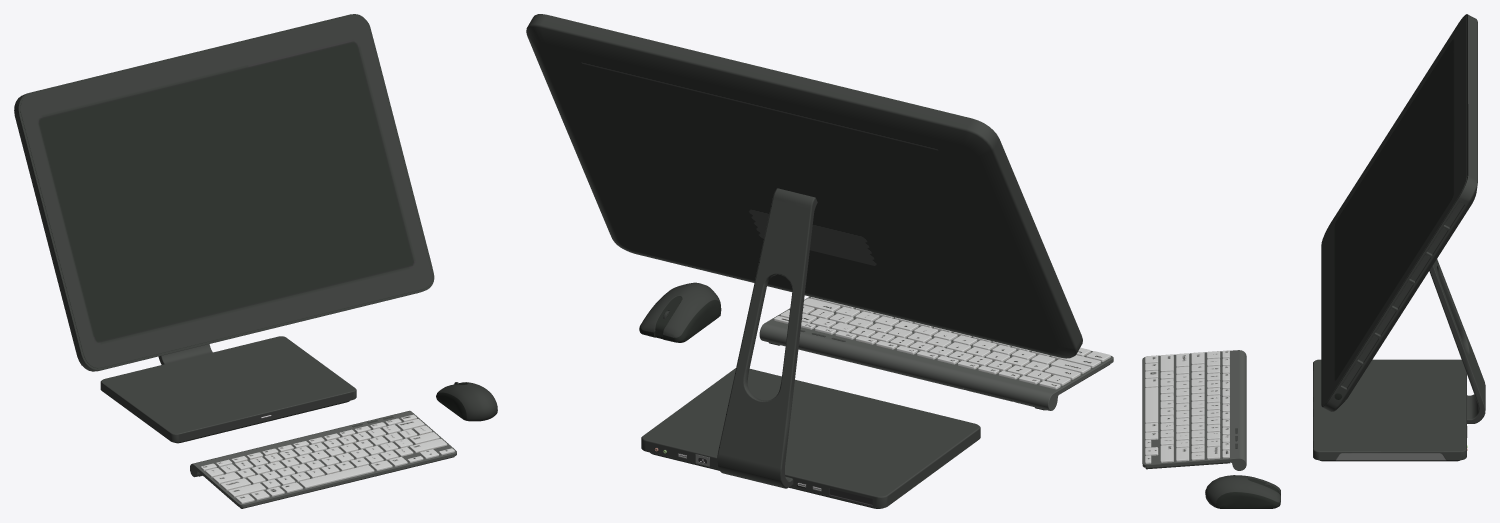
File: computer.fbx
The picture shows the model from 3 angles, left to right: view 1: azimuth 30°, elevation 25°; view 2: azimuth 150°, elevation 25°; view 3: azimuth 270°, elevation 25°; orthographic projection. The views are drawn at different scales.
Visible parts, largest first — view 1: node_id38; view 2: node_id38; view 3: node_id38.
Boxes of the visible parts, x1,y1,x2,y2 form: node_id38: (14,14,497,508); node_id38: (526,14,1113,508); node_id38: (1142,14,1485,508).
Size of the model in its own units: 0.512 by 0.4266 by 0.4126.
1 material, 1 textured.
